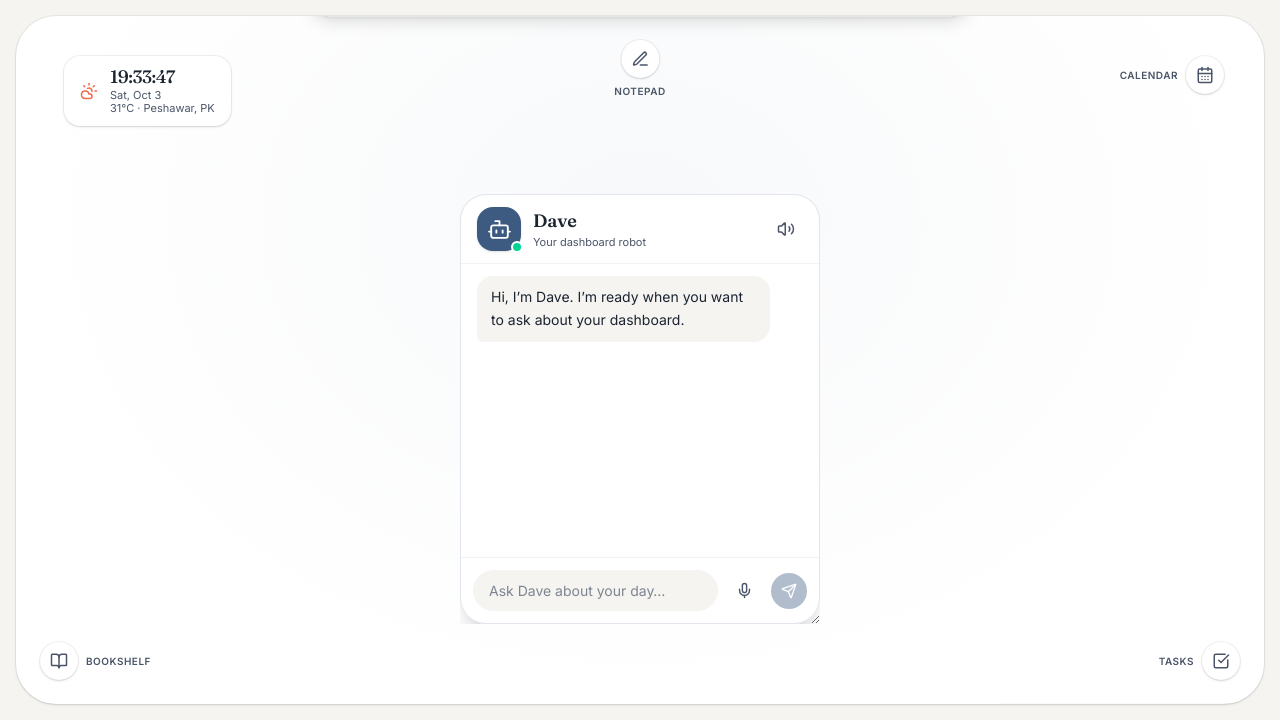
Scenario: DashboardPage › toggles bookshelf panel
What coordinates should you click on to do the following:
click the button named "Toggle bookshelf"
I would click on:
 (59, 661)
Its box is x1=40 y1=642 x2=78 y2=680.
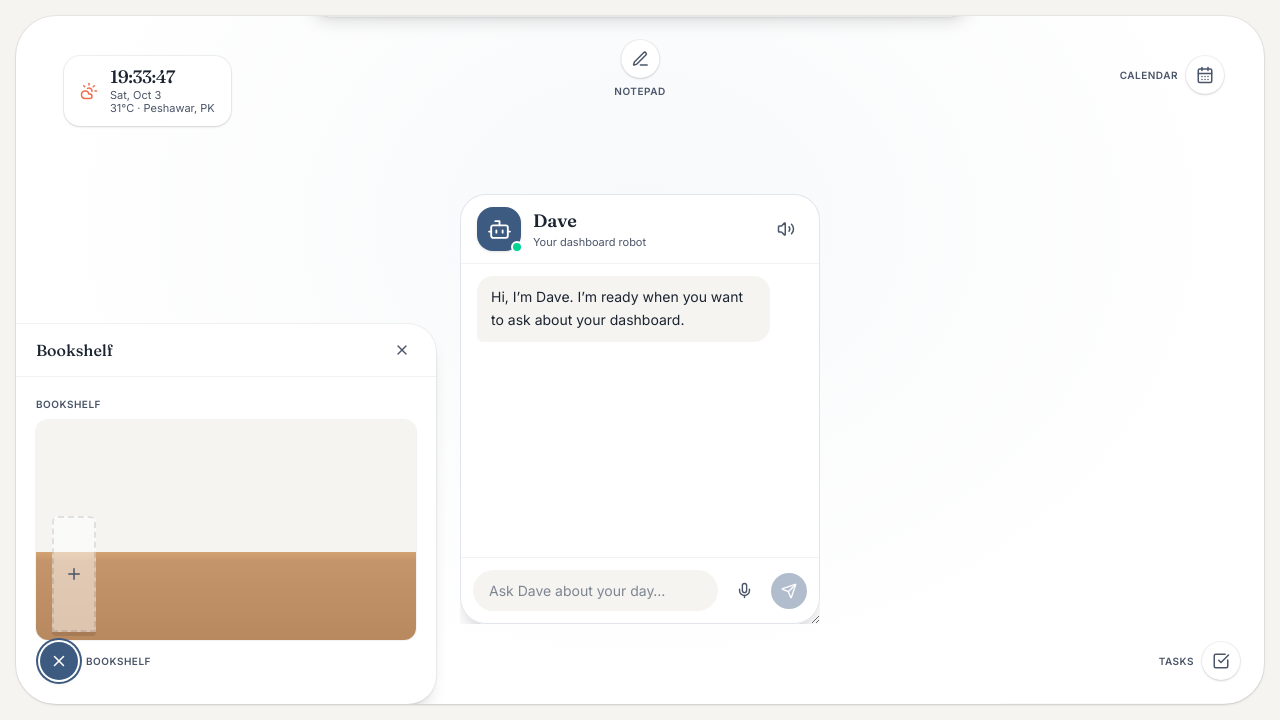
Expected: the heading "Bookshelf" is shown, x1=36 y1=338 x2=113 y2=362
